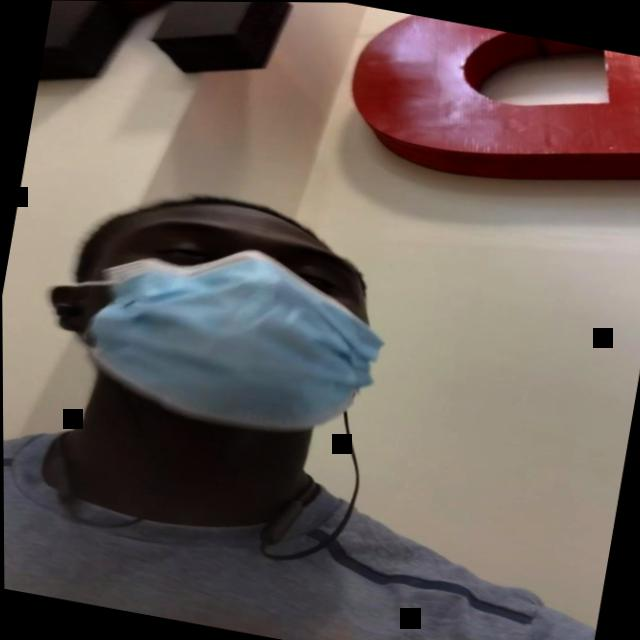Mask: (64, 184, 404, 450)
